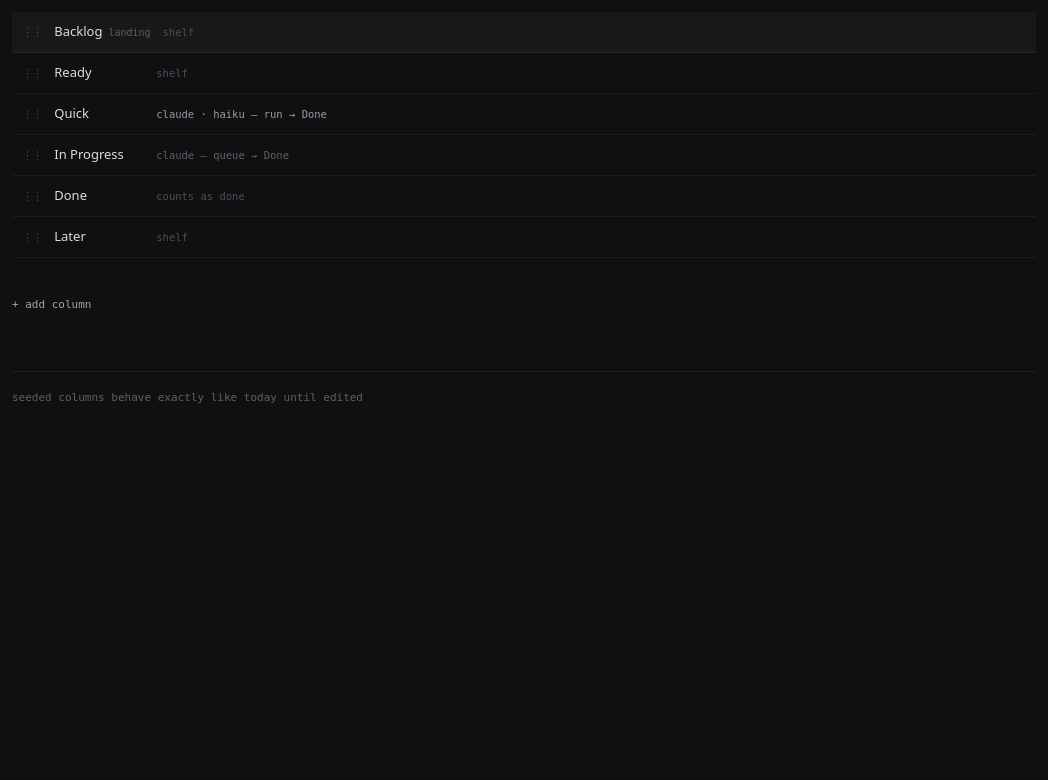
Test: delete › is a disabled label with the occupancy reason on an occupied column
Expected: the text "Backlog" is shown, [54,22,102,40]
Click the 1st button with class "fc-col-row" at (78, 31), box [14,12,1036,52]
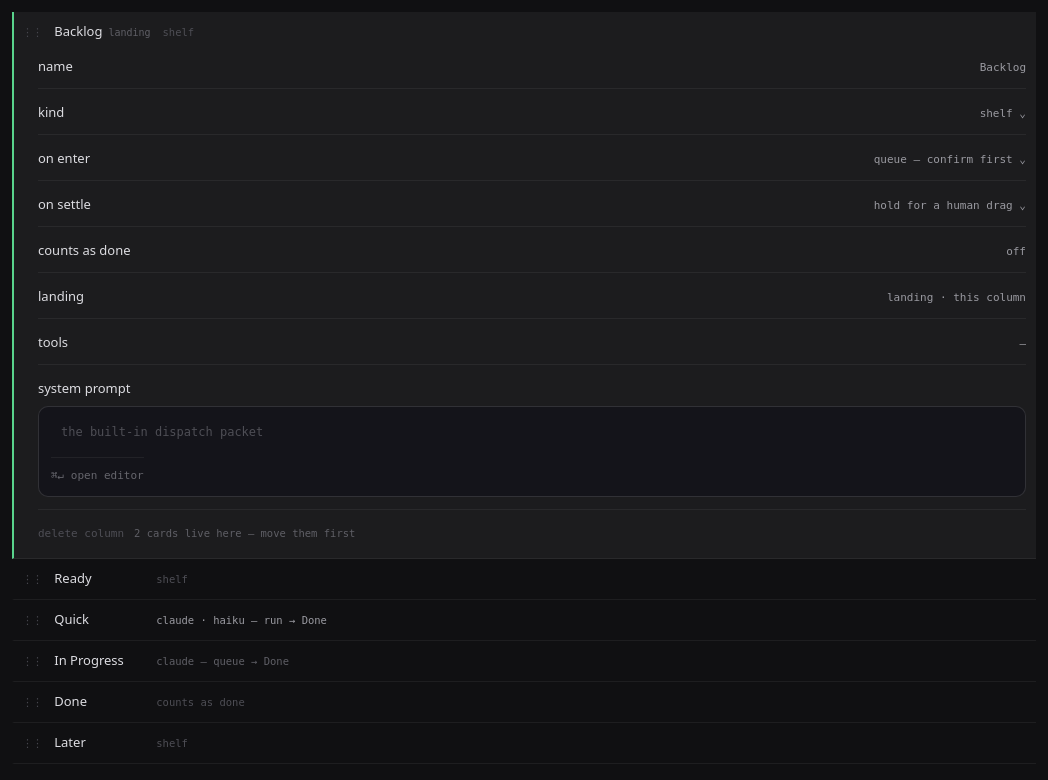
Now the text with class "fc-col-delete-disabled" reads "delete column", box [38,527,124,540]
Now the text with class "fc-col-delete-reason" reads "2 cards live here — move them first", box [134,527,355,539]
